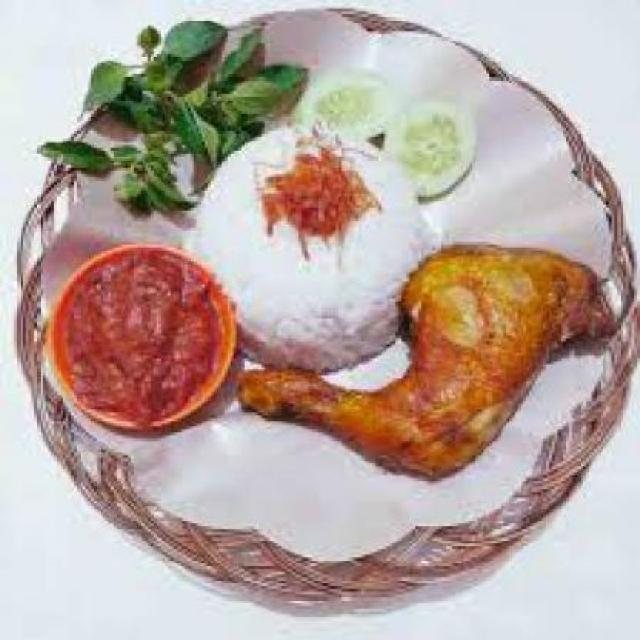Wet Waste: (237, 242, 615, 478), (200, 131, 431, 372)
